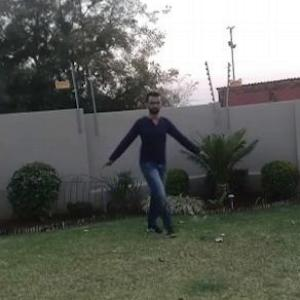land: (103, 98, 202, 229)
